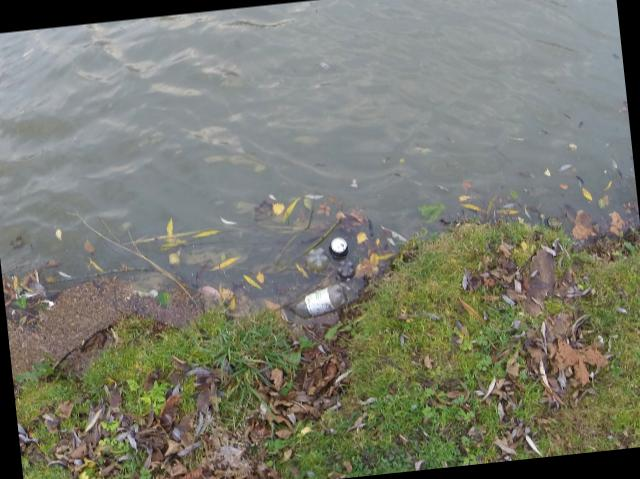plastic: (293, 284, 346, 317)
